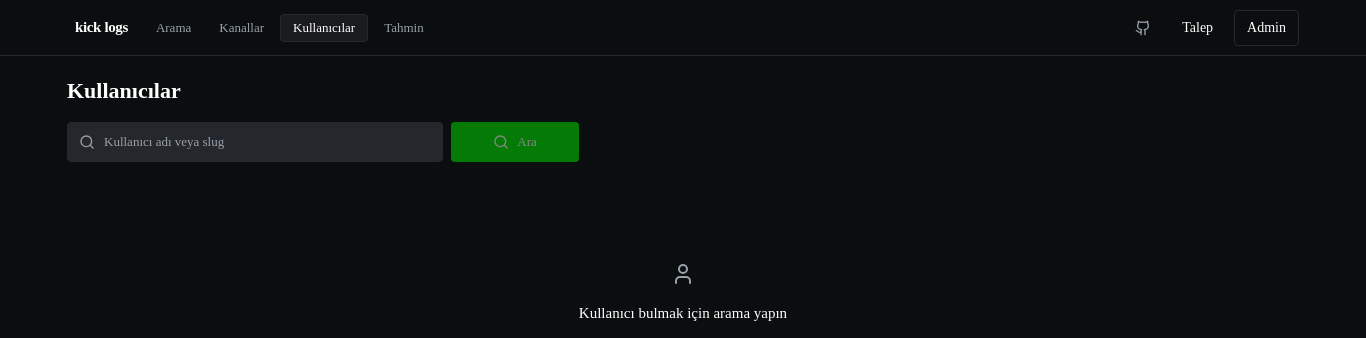
Scenario: UsersIndexPage › preserves the fallback row when a stored identity has no link
This screenshot has width=1366, height=338.
In the search field: (255, 142) [67,122,443,162], type "nolink"
Then press Enter
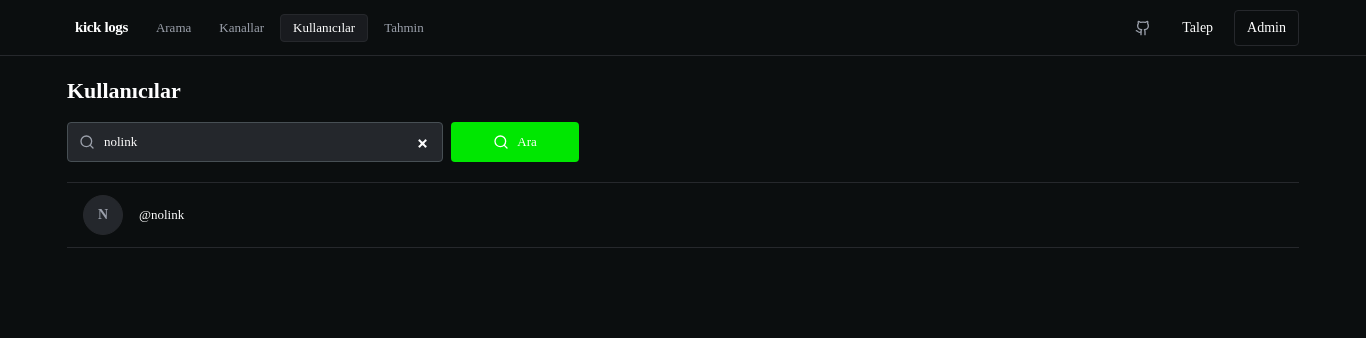
Expected: the text "@nolink" is shown, [139,207,184,222]
